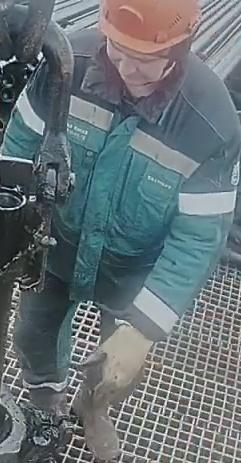gloves: (81, 317, 157, 408)
helmet: (96, 0, 203, 54)
vest: (0, 45, 232, 310)
